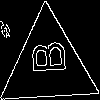B: (23, 40, 66, 75)
